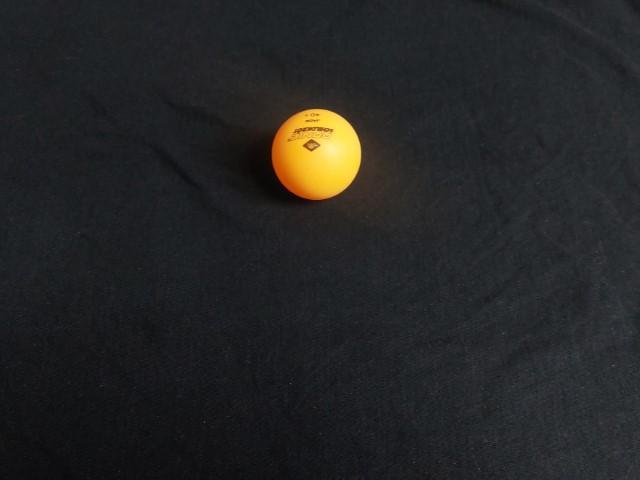oball: (261, 101, 372, 208)
